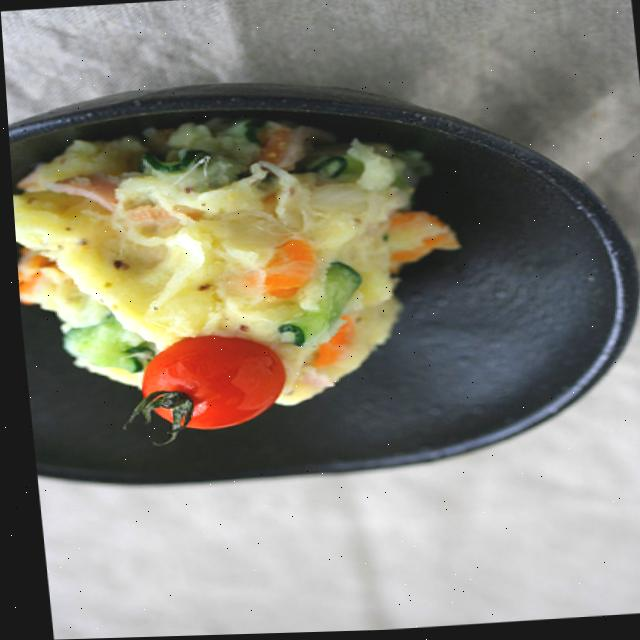蔬菜料理: (4, 62, 640, 500)
